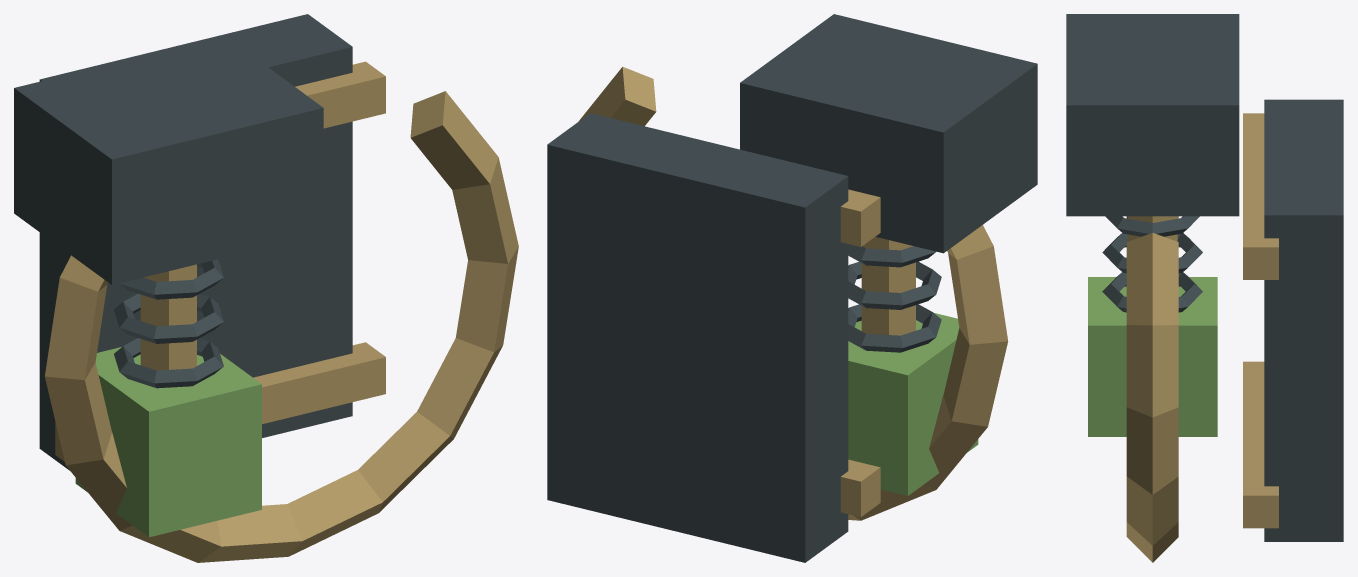
The model's file is Arsenal_RestoringHammer.fbx.
3 renders of one model, left to right at view 1: azimuth 30°, elevation 25°; view 2: azimuth 150°, elevation 25°; view 3: azimuth 270°, elevation 25°, orthographic. The views are drawn at different scales.
Parts seen in each view (by area): view 1: Arsenal_RestoringHammer; view 2: Arsenal_RestoringHammer; view 3: Arsenal_RestoringHammer.
Part boxes in pixels (x1,y1,x2,y2): Arsenal_RestoringHammer: (14, 14, 518, 562); Arsenal_RestoringHammer: (547, 14, 1037, 562); Arsenal_RestoringHammer: (1066, 14, 1343, 562).
Bounding box in the file's own units: 0.3359 × 0.3304 × 0.1925.
